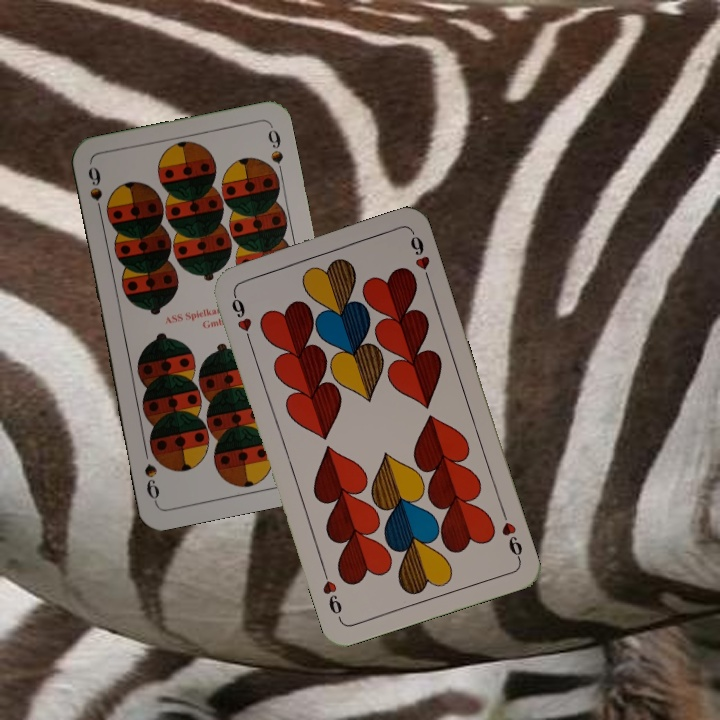H9: (497, 506, 525, 563), (227, 288, 254, 346)
S9: (83, 163, 106, 221)
